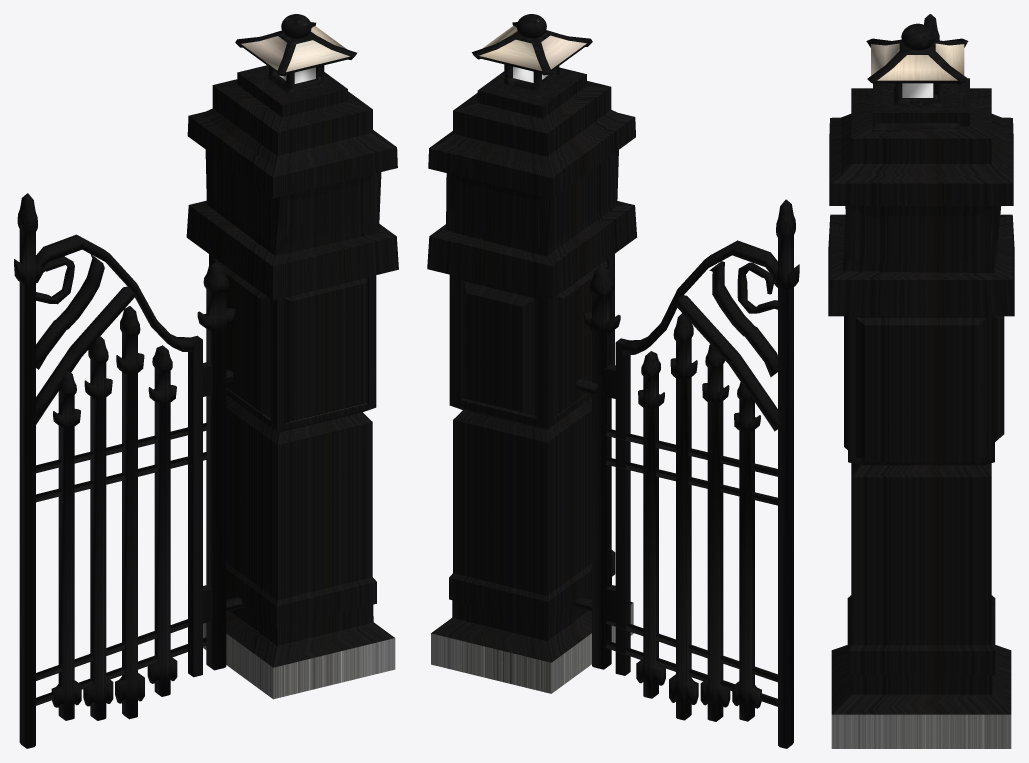
Rendered from gate 1.fbx.
3 renders of one model, left to right at view 1: azimuth 30°, elevation 25°; view 2: azimuth 150°, elevation 25°; view 3: azimuth 270°, elevation 25°, orthographic. The views are drawn at different scales.
Parts seen in each view (by area): view 1: Plane.002; view 2: Plane.002; view 3: Plane.002.
Boxes of the visible parts, x1,y1,x2,y2 form: Plane.002: (14,14,398,748); Plane.002: (427,14,799,748); Plane.002: (828,14,1014,748).
Bounding box in the file's own units: 70.63 × 134 × 31.24.
